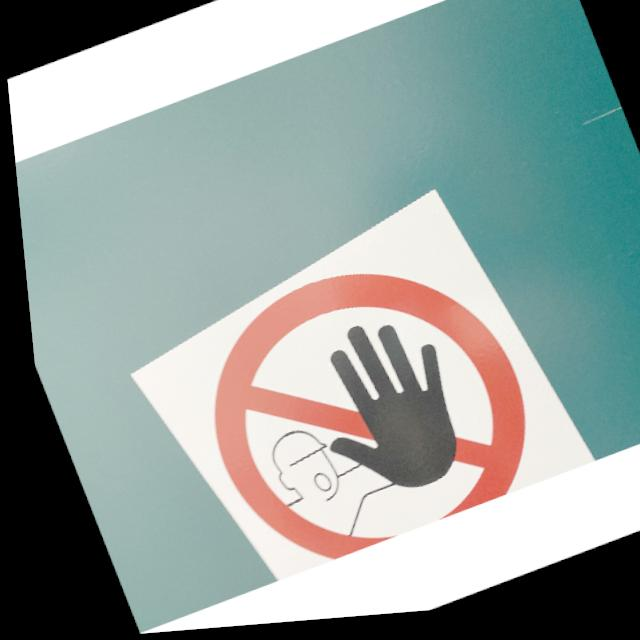No access for unauthorized persons: (159, 229, 551, 591)
